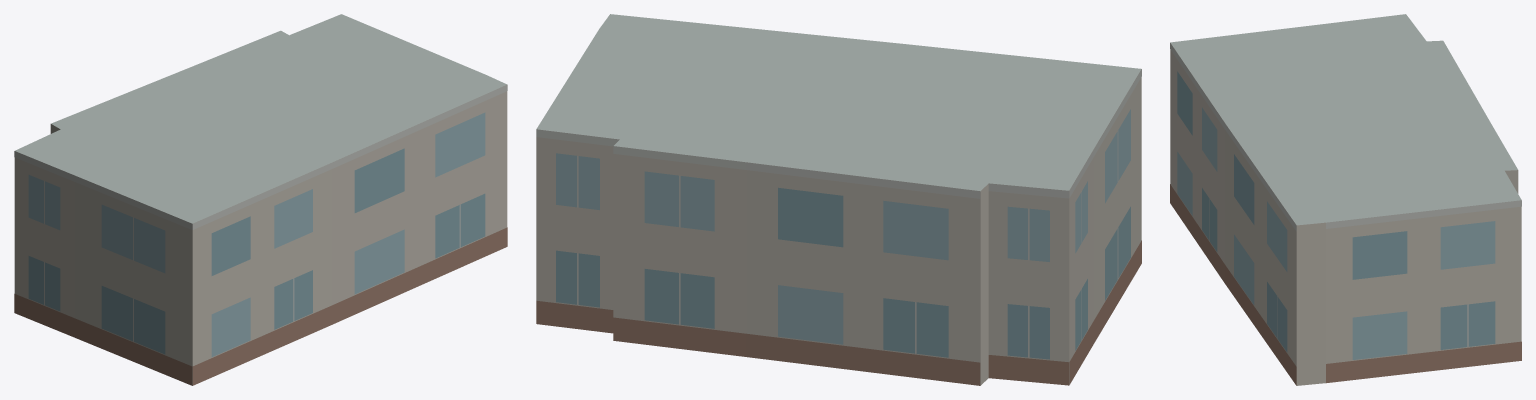
The model's file is survey-upis-32624088.glb.
The picture shows the model from 3 angles, left to right: view 1: azimuth 30°, elevation 25°; view 2: azimuth 150°, elevation 25°; view 3: azimuth 270°, elevation 25°; orthographic projection. The views are drawn at different scales.
Visible parts, largest first — view 1: survey-upis-32624088.tmp; view 2: survey-upis-32624088.tmp; view 3: survey-upis-32624088.tmp.
Boxes of the visible parts, box(x1,y1,x2,y2) form: survey-upis-32624088.tmp: box(14, 14, 507, 385); survey-upis-32624088.tmp: box(536, 14, 1141, 385); survey-upis-32624088.tmp: box(1170, 14, 1521, 385).
Size of the model in its own units: 17.23 by 6.1 by 12.12.
